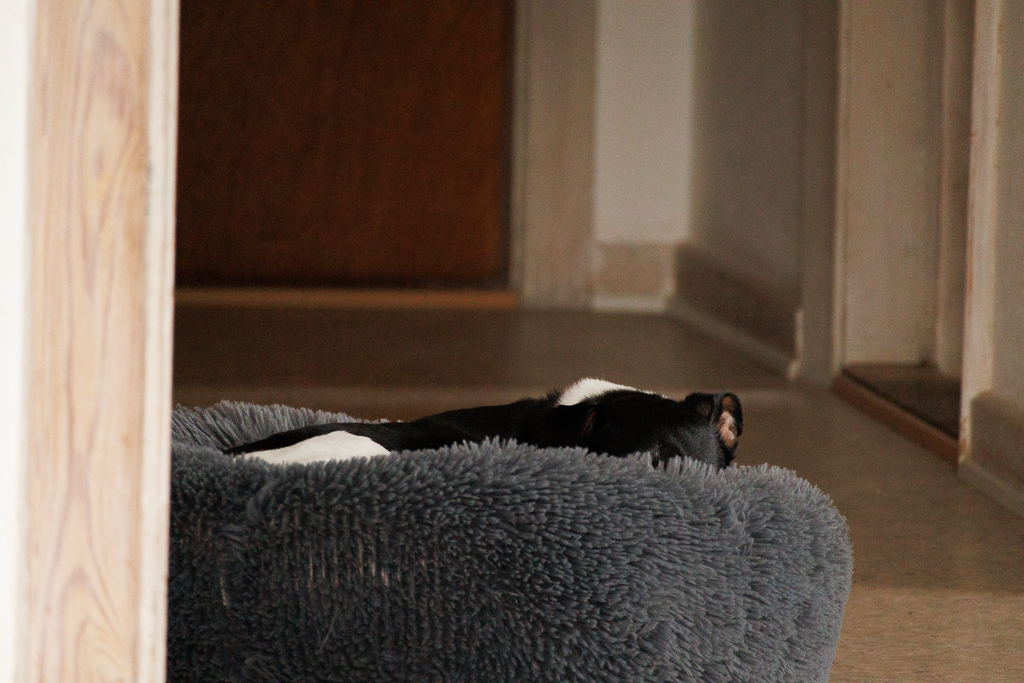Dog: (198, 367, 757, 500)
